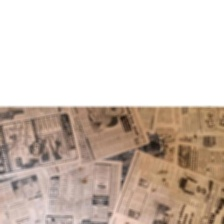news_paper: (108, 147, 223, 224), (39, 105, 150, 179), (0, 104, 83, 178), (46, 156, 126, 224), (169, 133, 223, 188), (0, 165, 49, 224), (155, 106, 224, 139), (125, 105, 160, 138)
